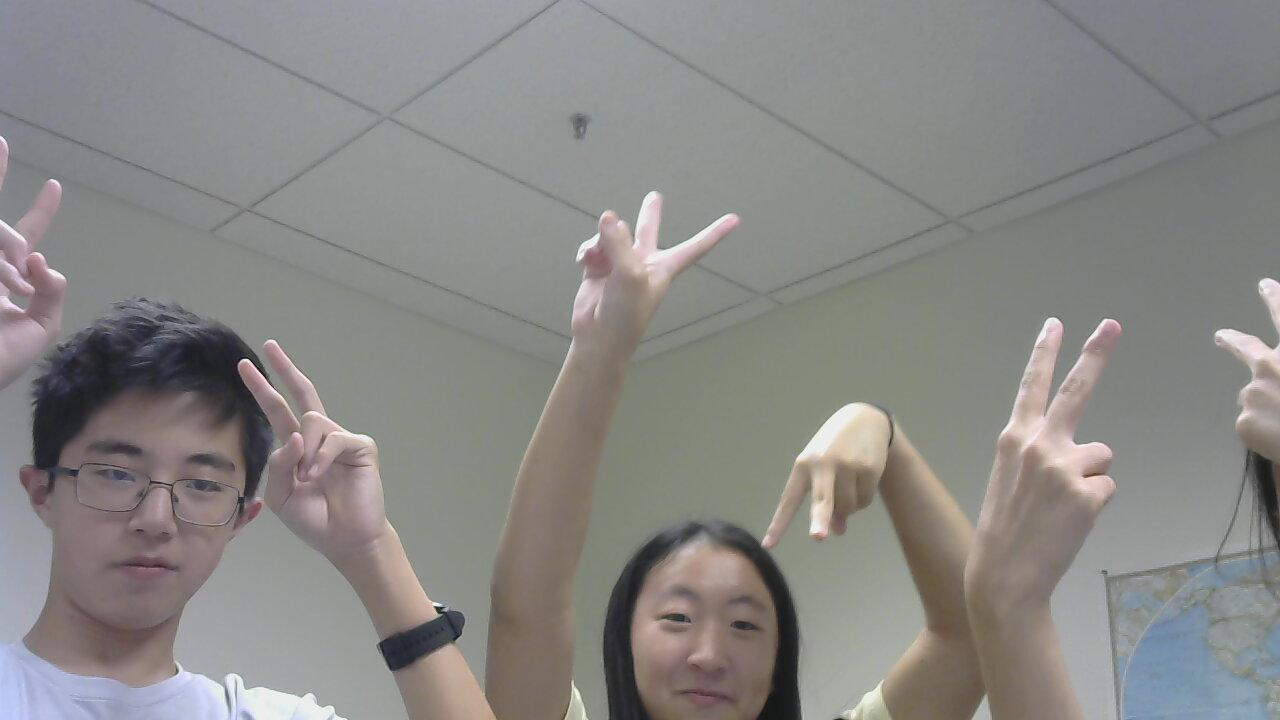peace: (956, 297, 1125, 628), (226, 327, 414, 546), (568, 172, 759, 351), (0, 127, 74, 391), (763, 392, 890, 533), (1200, 269, 1280, 476)
